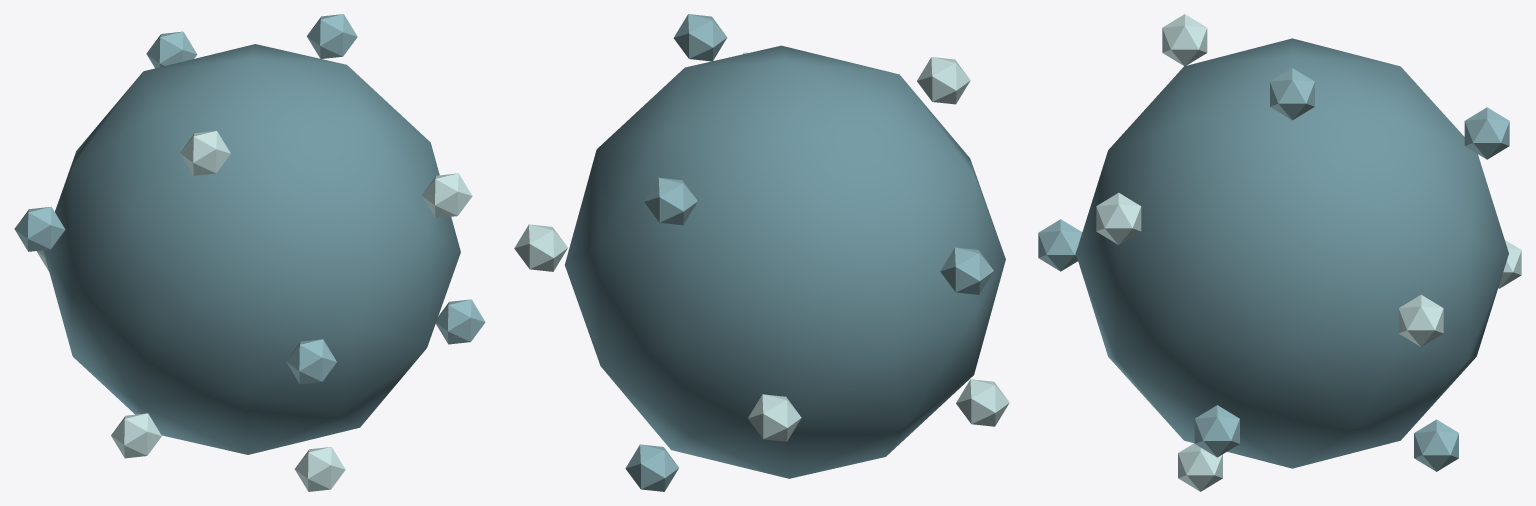
The model's file is tumor-cell-default.glb.
3 renders of one model, left to right at view 1: azimuth 30°, elevation 25°; view 2: azimuth 150°, elevation 25°; view 3: azimuth 270°, elevation 25°, orthographic. The views are drawn at different scales.
Bounding box in the file's own units: 3.99 × 4.04 × 4.02.
